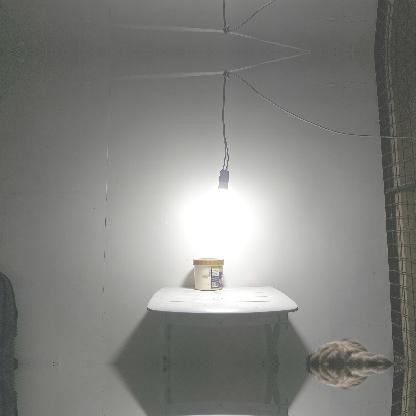Lady-s-Choice: (192, 257, 224, 289)
